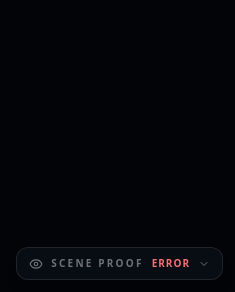
CockpitSceneProofPanel › shows the error row when expanded and error exists
The image size is (235, 292).
Click the button with test id "cockpit-proof-toggle" at (120, 264), box [17,248,222,279]
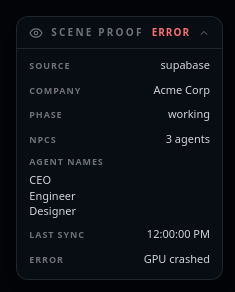
Expected: the element with test id "proof-error" is shown, [29,250,210,267]
Expected: the text "GPU crashed" is shown, [144,250,210,267]
